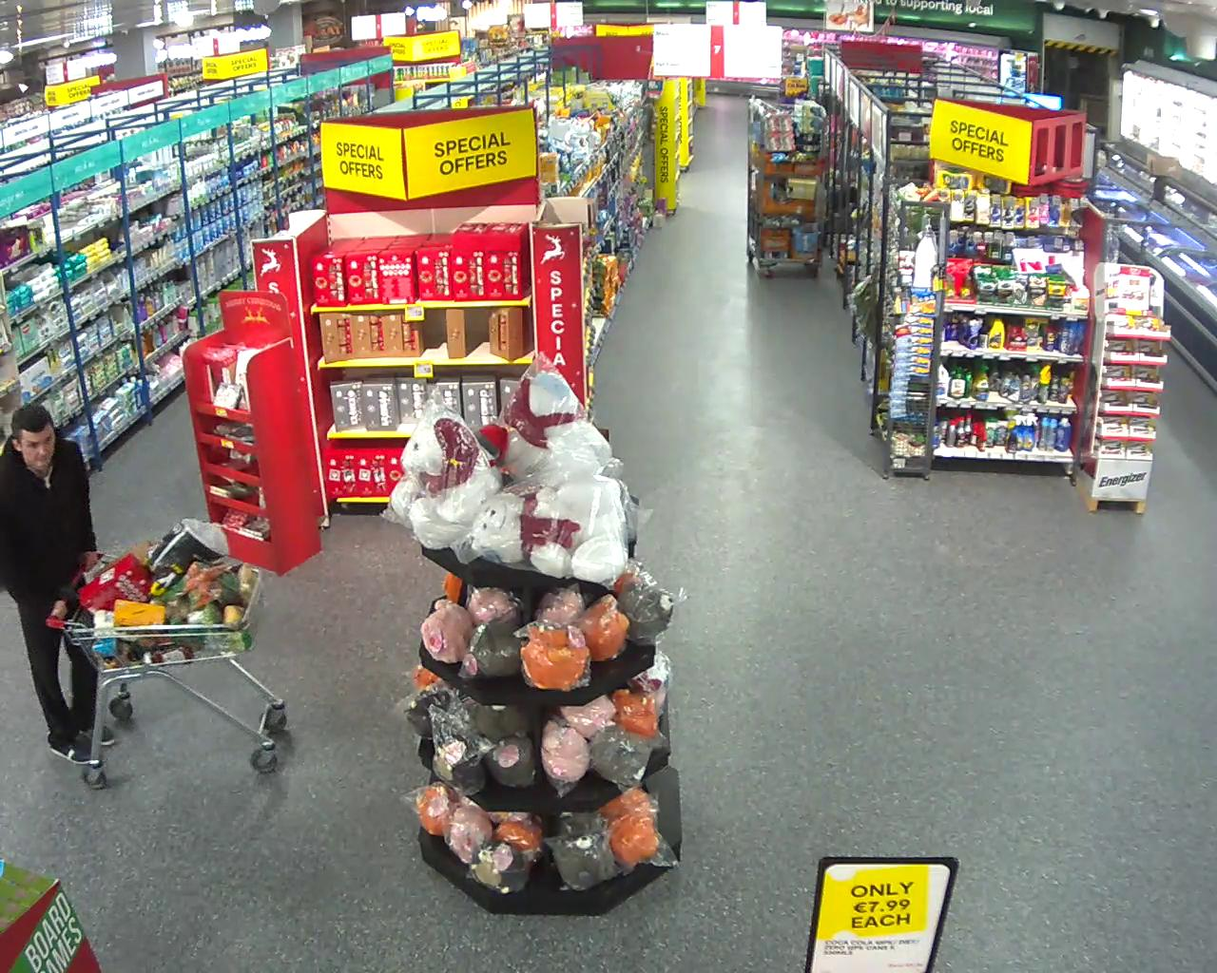filled-trolly: (49, 519, 289, 789)
person: (0, 405, 114, 761)
person-with-filled-basket-trolly: (0, 404, 288, 788)
